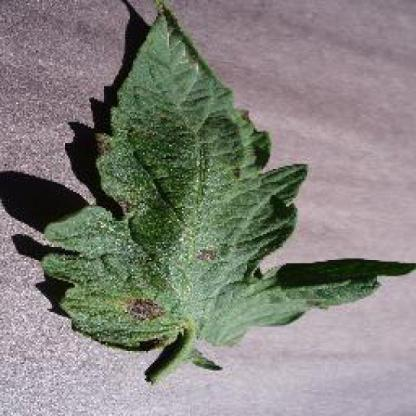Tomato_Blight: (46, 2, 365, 354)
